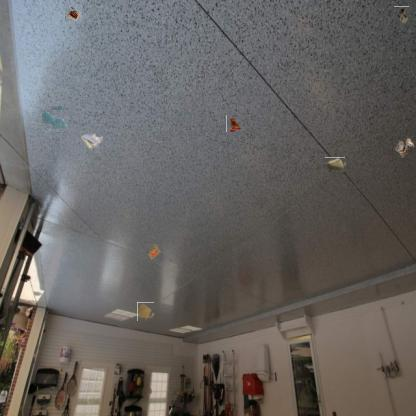dirty: (392, 136, 416, 158), (79, 130, 103, 150), (64, 4, 82, 22), (393, 7, 410, 25), (326, 157, 346, 172), (226, 115, 243, 132), (147, 244, 164, 260)
liquid: (44, 108, 66, 131), (137, 302, 154, 321)
